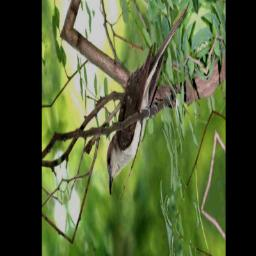Cuckoo: (90, 2, 209, 196)
